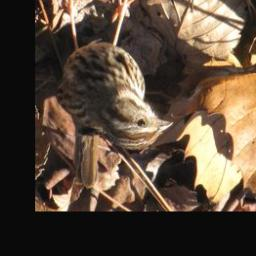Sparrow: (54, 0, 177, 152)
